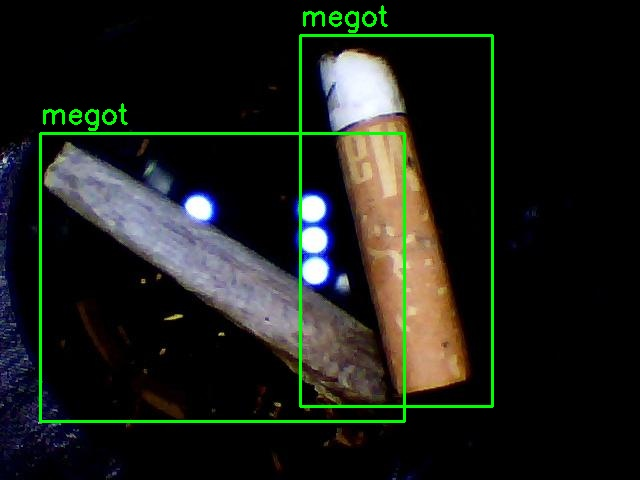megot: (40, 133, 404, 421), (300, 35, 492, 406)
